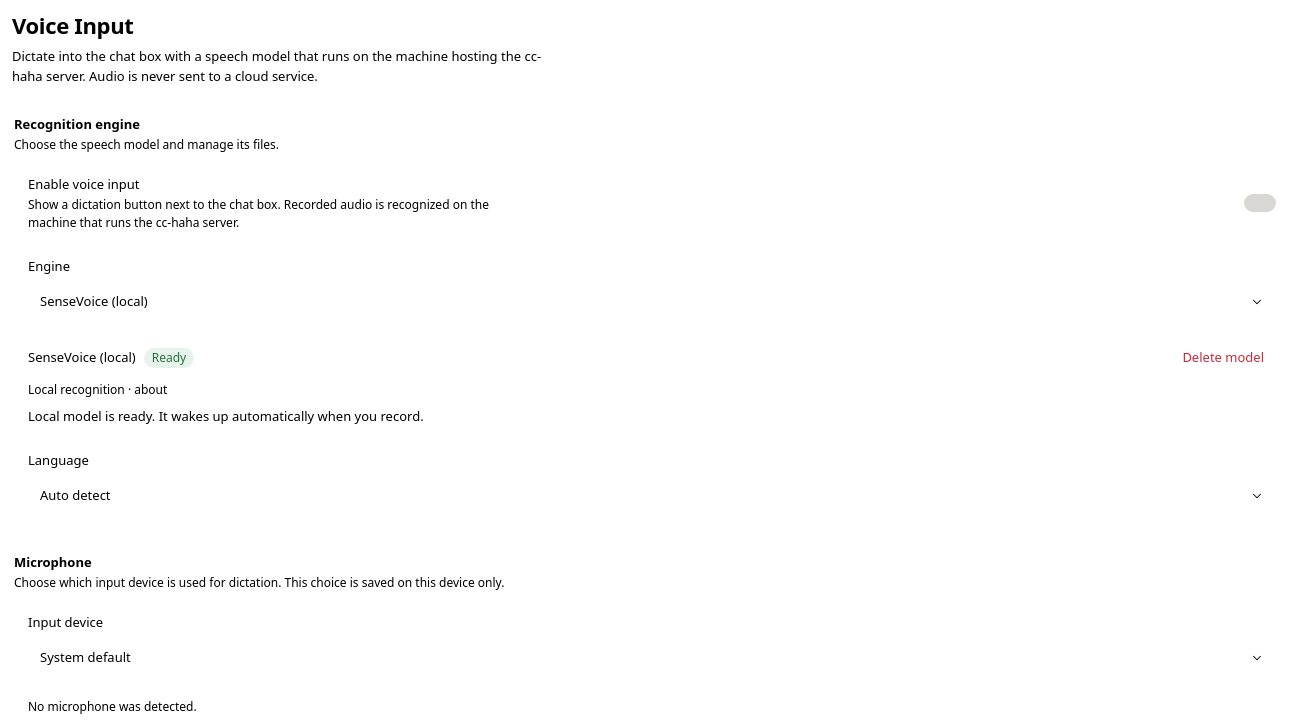
Test: VoiceInputSettings preferences › shows a save failure instead of pretending the switch worked
The image size is (1292, 724).
Check: the element with test id "voice-model-status" is shown, box [12, 330, 1291, 438]
What coordinates should you click on to do the following:
click the switch named "Enable voice input"
I would click on:
 (1260, 202)
Its box is [1244, 194, 1276, 212].
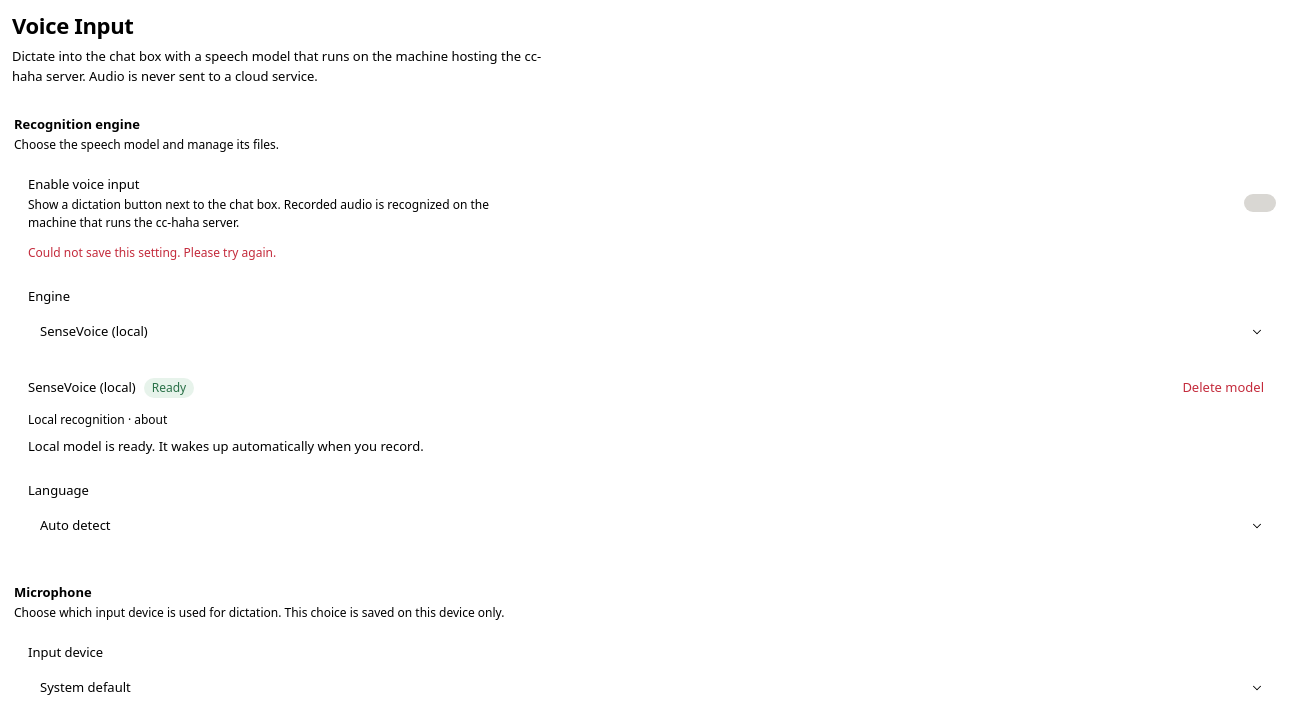
Check: the text "Could not save this setting. Please try again." is shown, box [28, 244, 276, 260]
